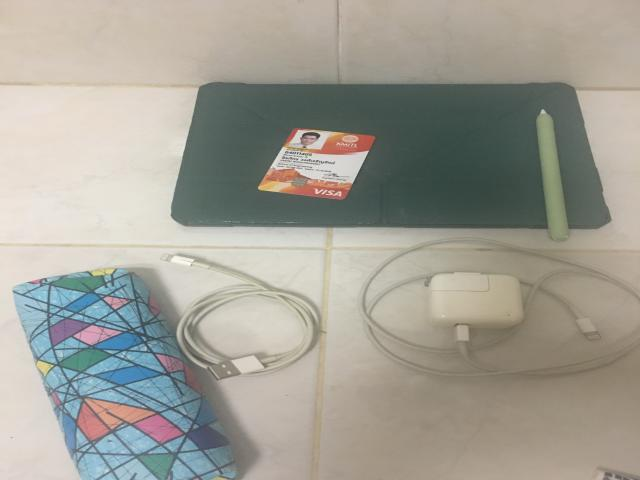wire: (358, 237, 638, 378), (162, 254, 318, 380)
